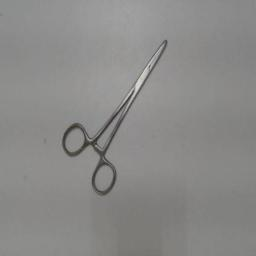Mayo Needle Holder: (55, 30, 175, 200)
